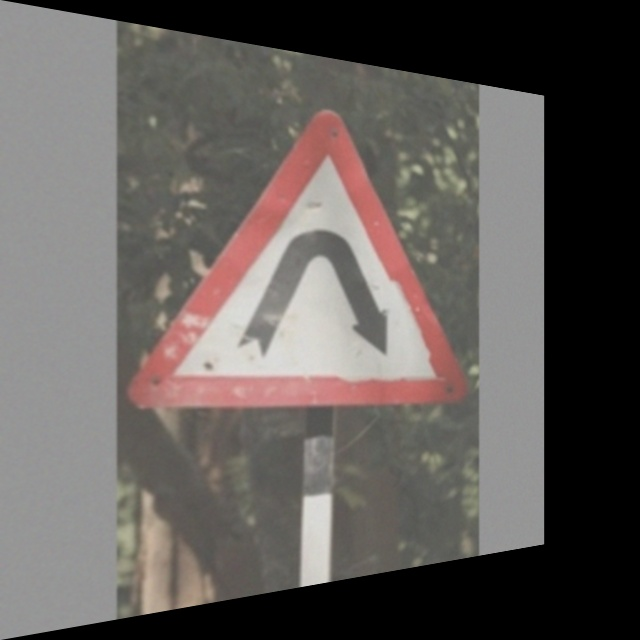Right_Hair_Pin_Bend: (143, 81, 456, 418)
